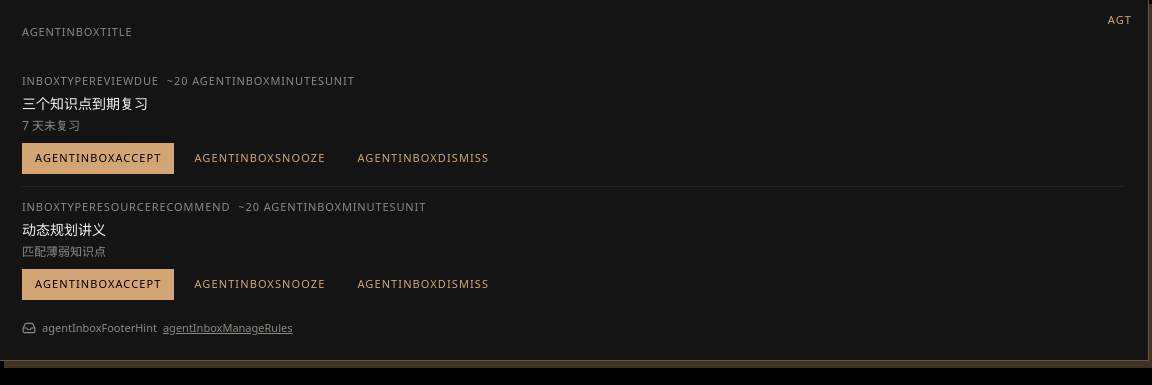
Scenario: AgentInboxWidget › 点击接受后本地移除该项
The width and height of the screenshot is (1152, 385).
Expected: the text "三个知识点到期复习" is shown, [22,94,148,113]
Click the button "agentInboxAccept" below "inboxTypeReviewDue" at (98, 158), box [22,143,174,174]
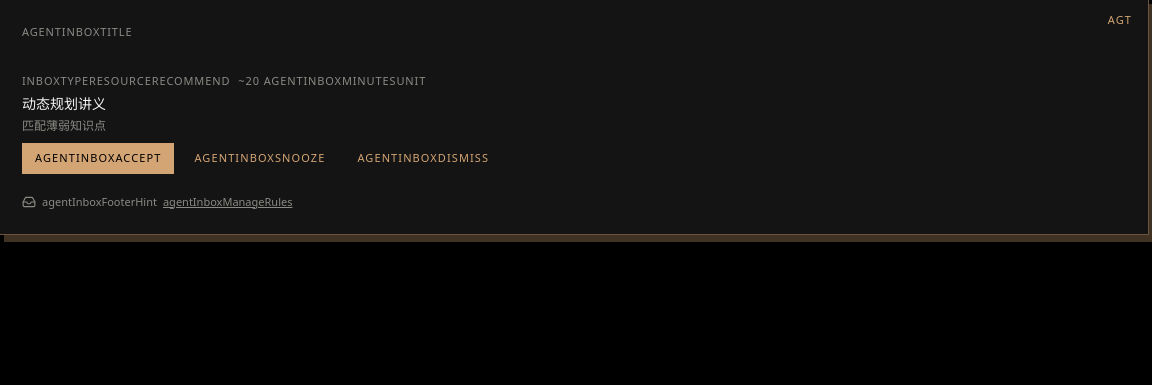
Expected: the list item with test id "inbox-item-8" is shown, [22,72,501,174]
Now the list item with test id "inbox-item-7" is gone
